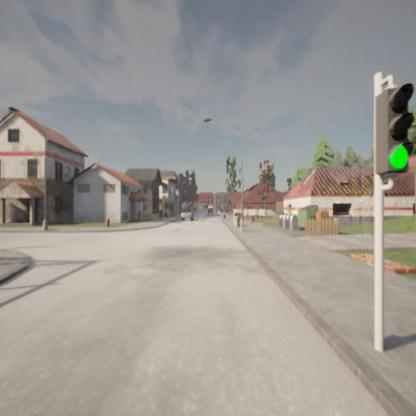traffic_light_green: (387, 82, 415, 172)
